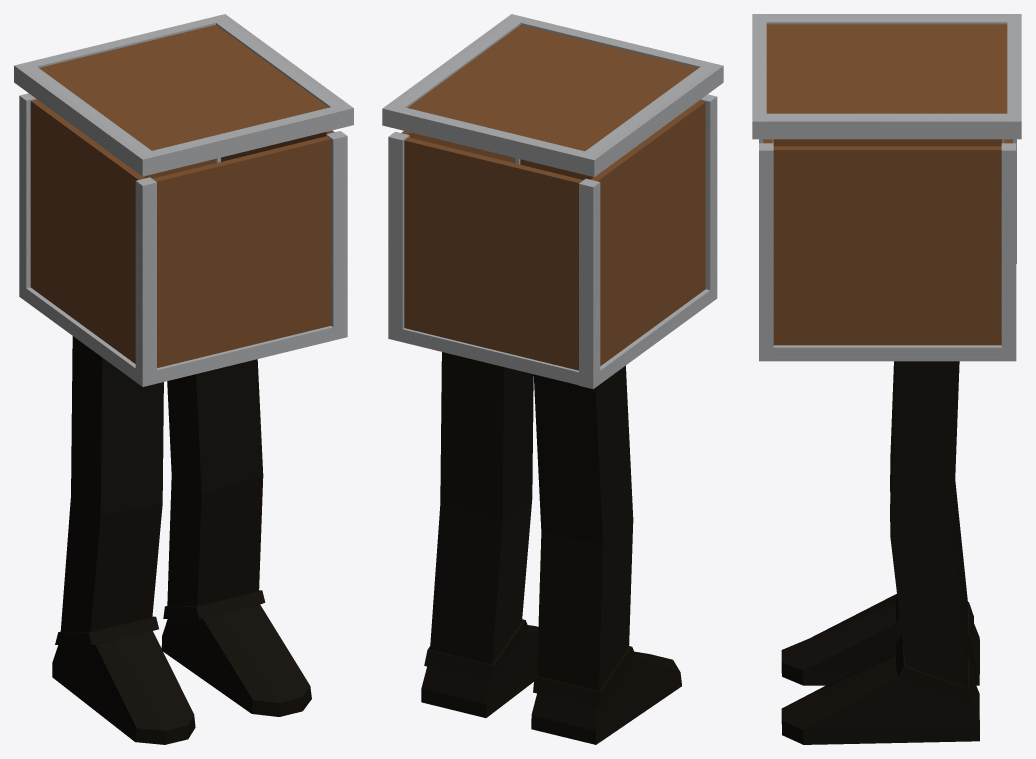
The model's file is CrateEnemy.fbx.
3 views of the same model, side by side, from view 1: azimuth 30°, elevation 25°; view 2: azimuth 150°, elevation 25°; view 3: azimuth 270°, elevation 25° (orthographic). The views are drawn at different scales.
Parts seen in each view (by area): view 1: Cube, Cube.001, Cube.003, Cube.002, Cube.005, Cube.004; view 2: Cube, Cube.001, Cube.003, Cube.002, Cube.005, Cube.004; view 3: Cube, Cube.003, Cube.002, Cube.004, Cube.005, Cube.001.
Boxes of the visible parts, x1,y1,x2,y2 form: Cube: (30,99,334,367); Cube.001: (52,336,195,744); Cube.003: (161,359,311,716); Cube.002: (39,25,328,150); Cube.005: (19,93,347,386); Cube.004: (14,14,353,176); Cube: (401,100,705,370); Cube.001: (531,365,681,744); Cube.003: (421,352,538,717); Cube.002: (407,25,698,151); Cube.005: (388,94,717,389); Cube.004: (382,14,723,177); Cube: (763,139,1012,345); Cube.003: (781,361,979,744); Cube.002: (766,24,1007,113); Cube.004: (752,14,1021,139); Cube.005: (759,139,1016,361); Cube.001: (781,361,979,685).
Bounding box in the file's own units: 360 × 986 × 380.
